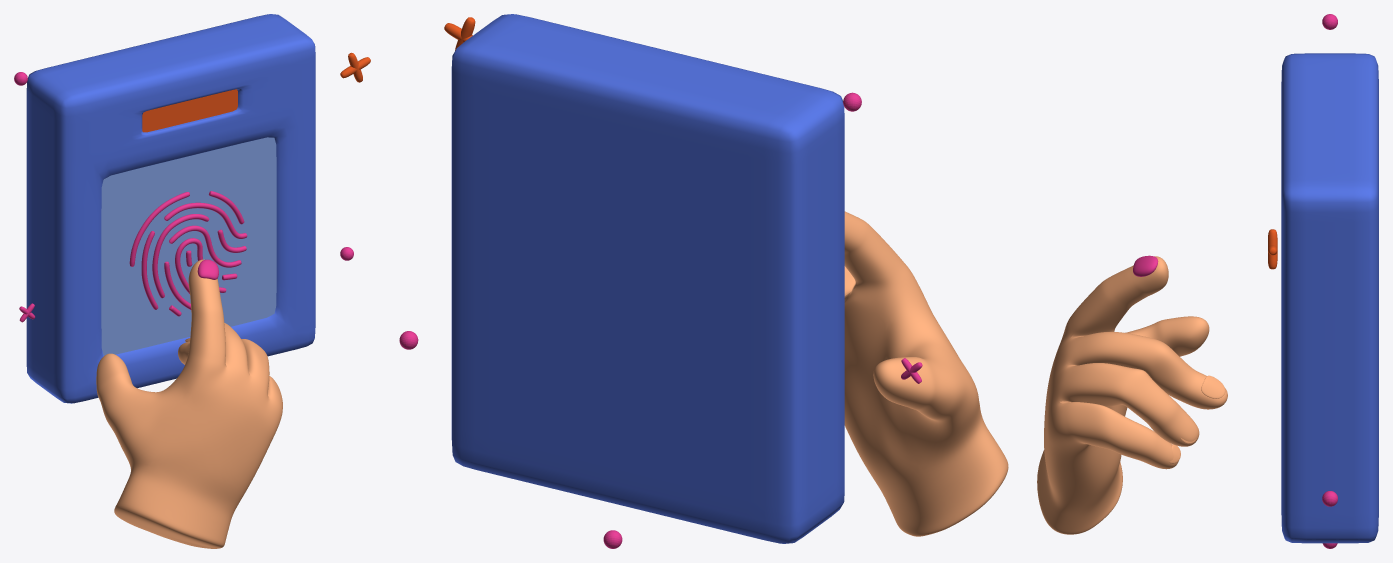
Rendered from biometrics-3d-animated-icon-333214593122.glb.
The picture shows the model from 3 angles, left to right: view 1: azimuth 30°, elevation 25°; view 2: azimuth 150°, elevation 25°; view 3: azimuth 270°, elevation 25°; orthographic projection. The views are drawn at different scales.
Parts seen in each view (by area): view 1: tab, hand, fingerprint, element plus; view 2: tab, hand; view 3: tab, hand, hand.001.
Part boxes in pixels (x1,y1,x2,y2): tab: [26, 14, 315, 403]; hand: [96, 259, 282, 548]; fingerprint: [129, 191, 247, 316]; element plus: [340, 52, 370, 82]; tab: [451, 14, 844, 543]; hand: [844, 211, 1008, 536]; tab: [1281, 53, 1378, 543]; hand: [1037, 256, 1227, 534]; hand.001: [1133, 255, 1158, 276].
Bounding box in the file's own units: 4.07 × 4.49 × 2.91.
